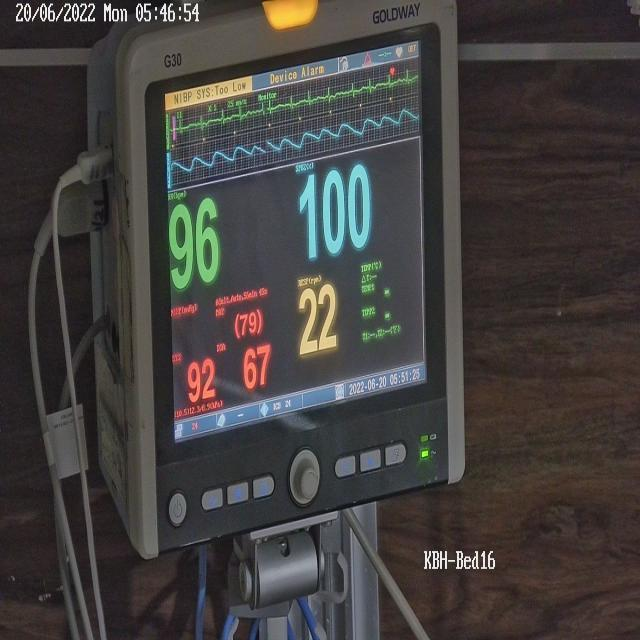Monitor: (22, 2, 466, 640)
